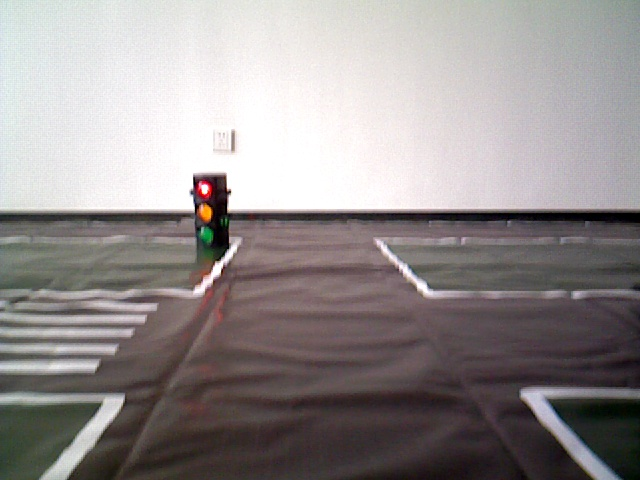red: (195, 174, 224, 248)
